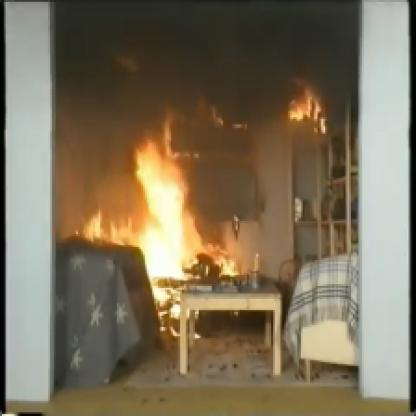fire: (129, 126, 223, 342), (273, 60, 344, 142), (61, 191, 153, 252)
